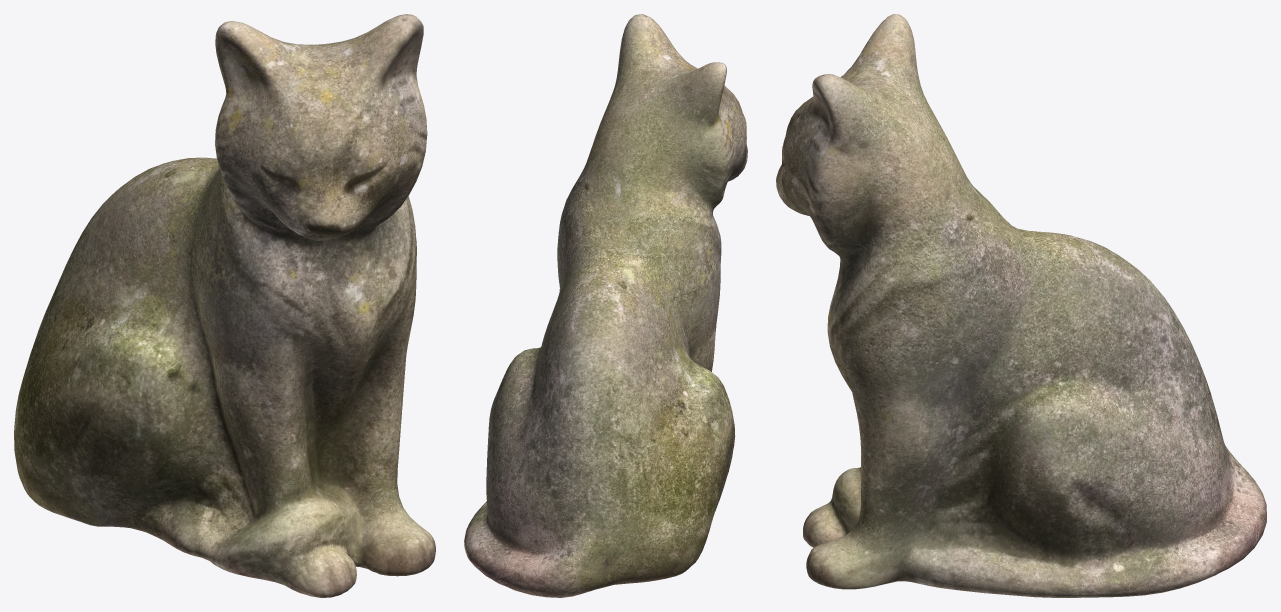
The model's file is concrete_cat_statue.glb.
3 views of the same model, side by side, from view 1: azimuth 30°, elevation 25°; view 2: azimuth 150°, elevation 25°; view 3: azimuth 270°, elevation 25° (orthographic). The views are drawn at different scales.
Visible parts, largest first — view 1: concrete_cat_statue; view 2: concrete_cat_statue; view 3: concrete_cat_statue.
Part boxes in pixels (x1,y1,x2,y2): concrete_cat_statue: [14, 14, 435, 597]; concrete_cat_statue: [464, 14, 747, 597]; concrete_cat_statue: [776, 14, 1266, 597].
Size of the model in its own units: 0.153 by 0.283 by 0.25.
Materials: 1 (1 with a texture image).
